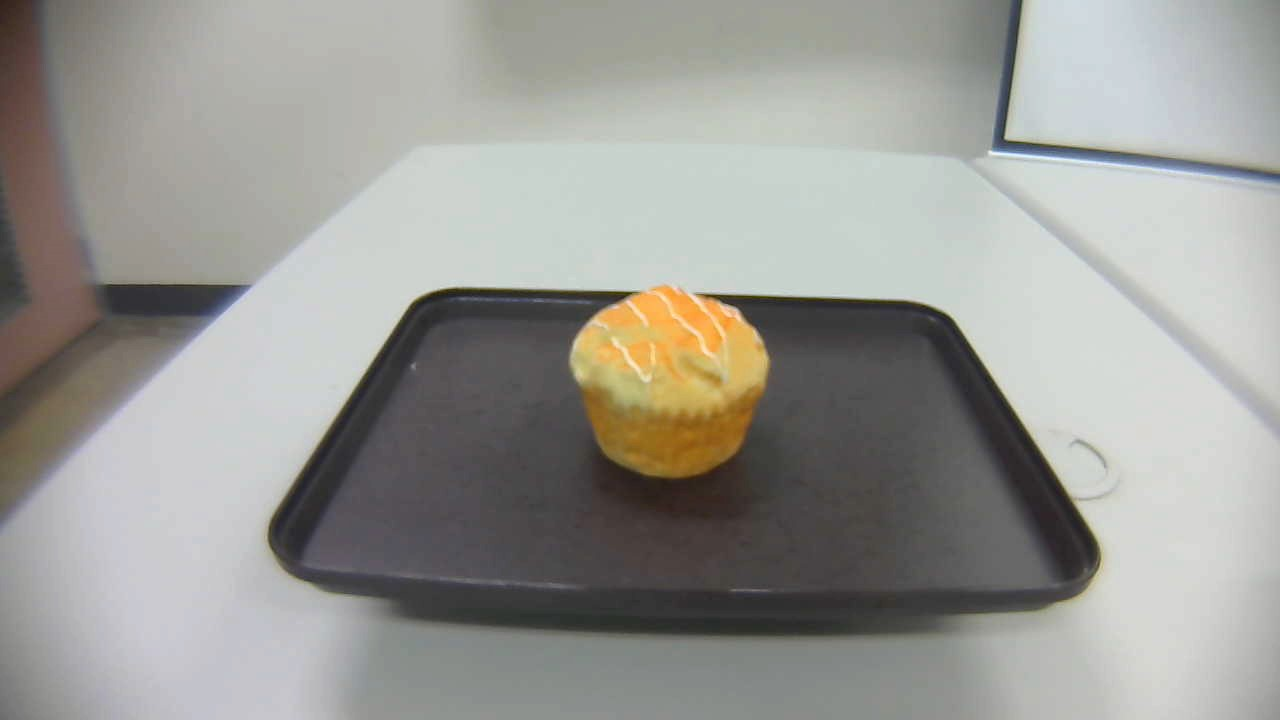cupcake: (569, 282, 771, 477)
